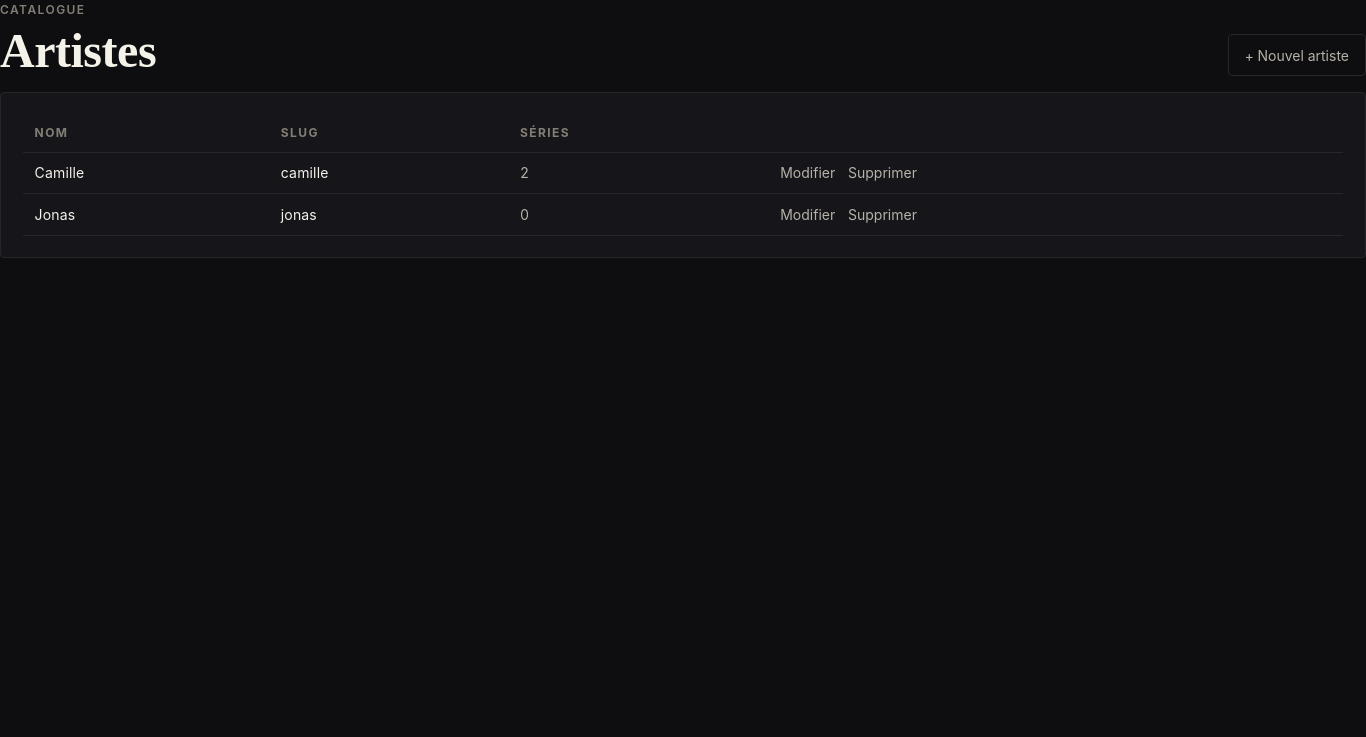
Test case: AdminEntityManager › shows the server's own refusal rather than a generic failure
Click the button with class "btn-add" at (1297, 55), box [1228,34,1365,76]
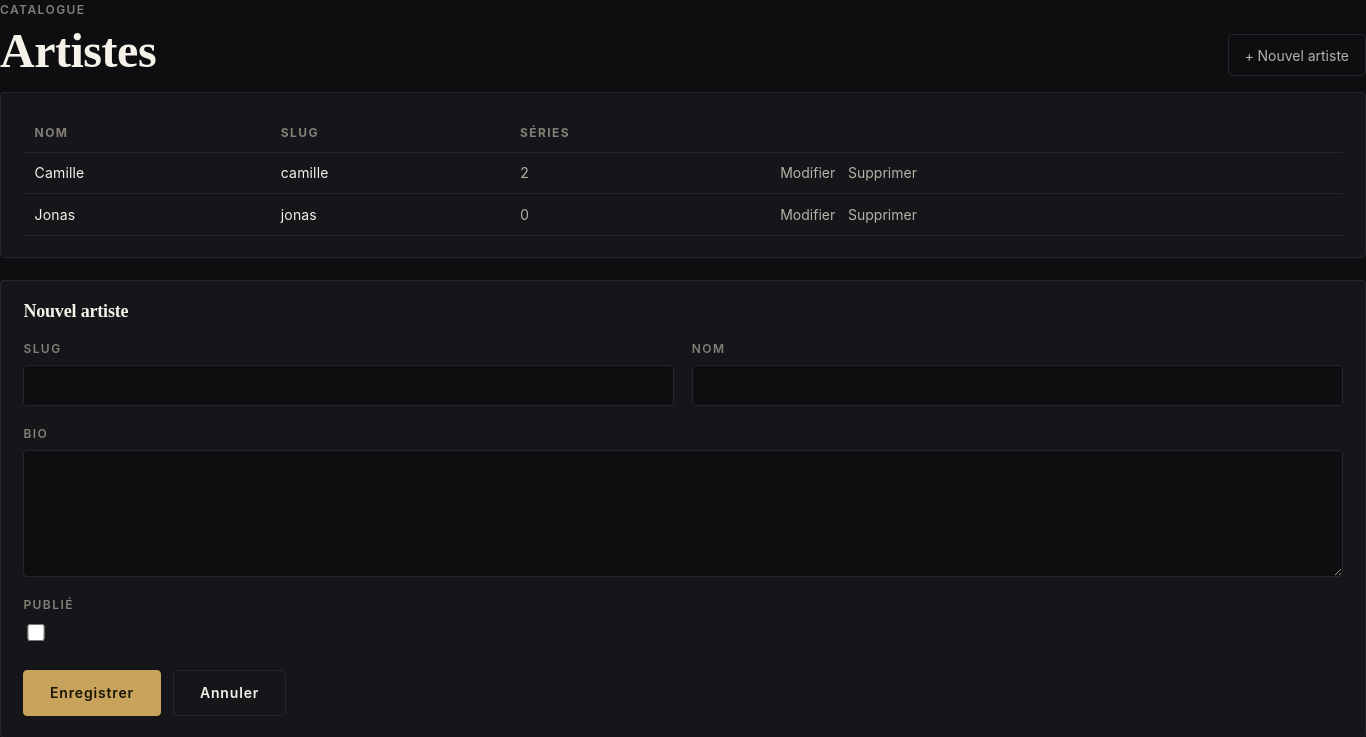
Click the button "Enregistrer" at (92, 693), box [23,670,160,716]
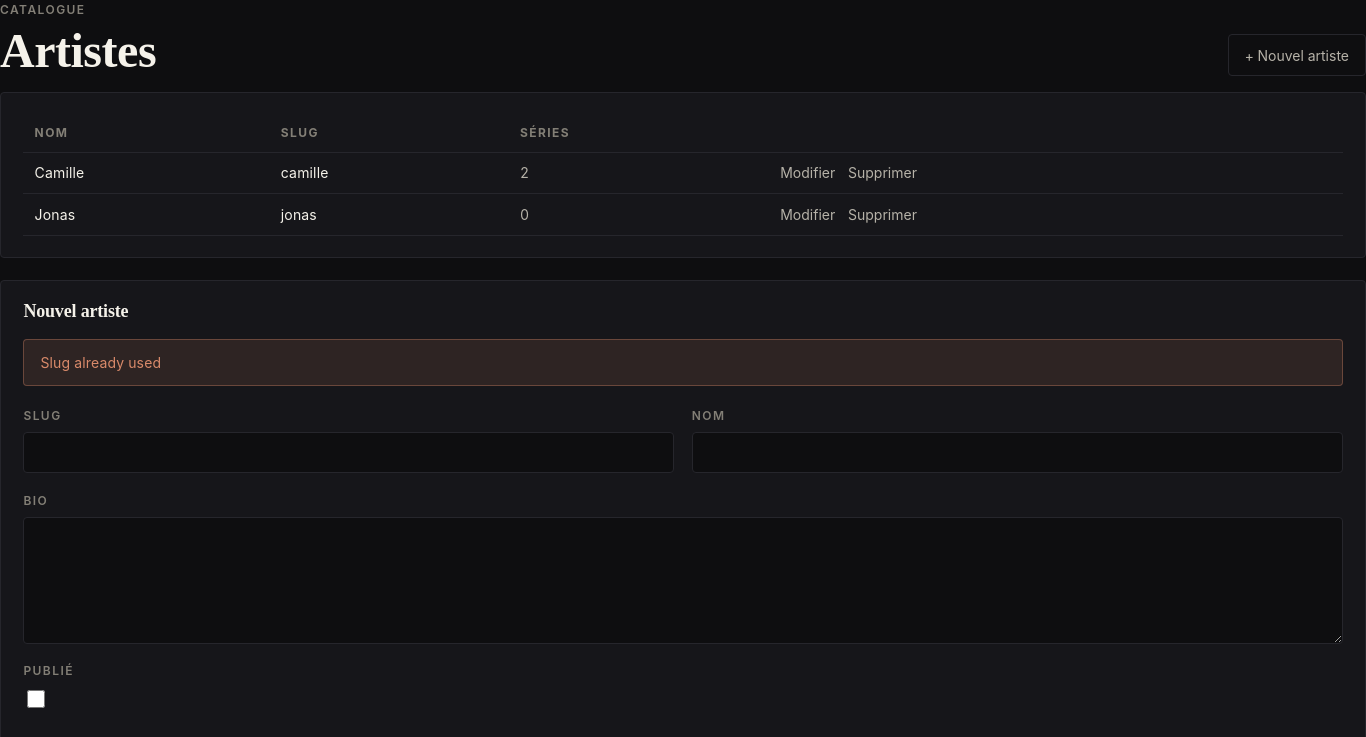
Check: the message with class "alert" reads "Slug already used", box [40,354,161,371]
